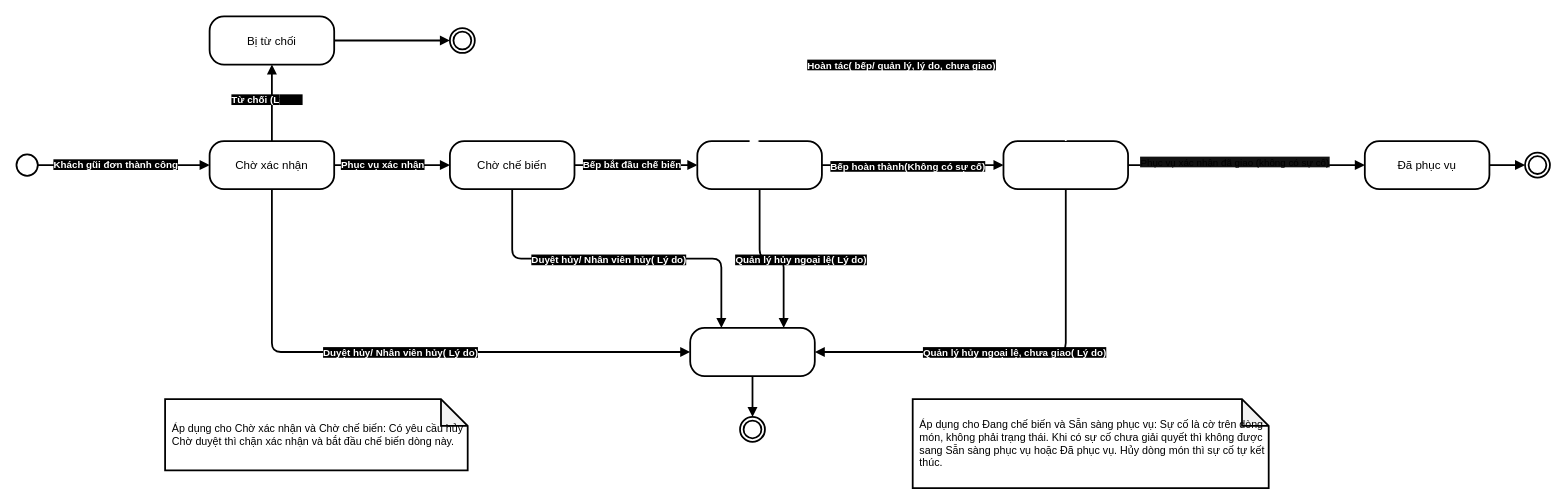
Image size: 1566x504. Some labels were removed from this diagram. The shapes that lost their labels are listed below. From the top down, each one's box as (x1, y1, x2, y2) in pixels, then its label:
(696, 140, 822, 190): Đang chế biến
(1002, 140, 1129, 190): Sẵn sàng phục vụ
(689, 327, 815, 376): Đã hủy
